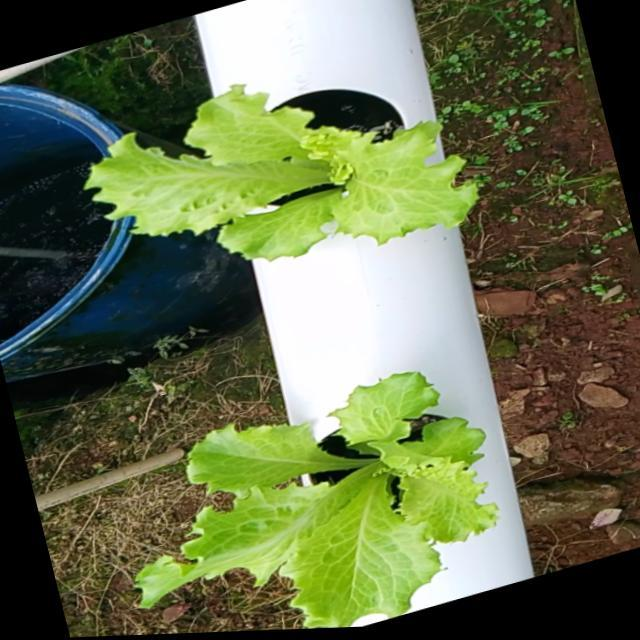Baby: (139, 369, 505, 628), (86, 79, 482, 255)
